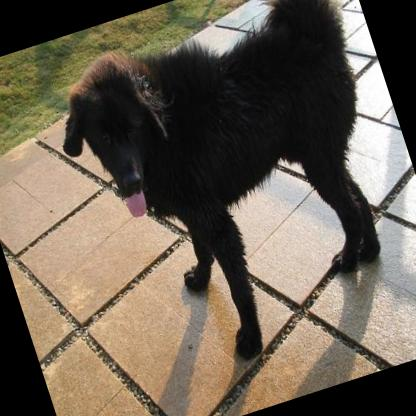Tibetan_mastiff: (27, 0, 416, 398)
